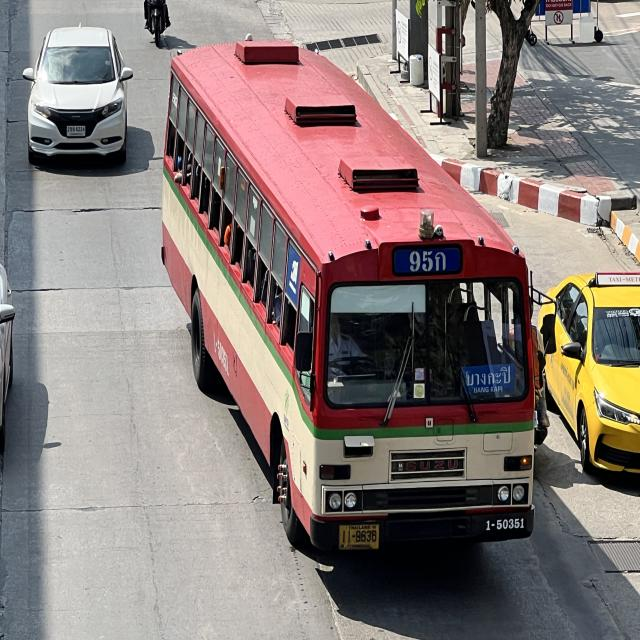BMTA-bus: (160, 39, 542, 558)
Bus-Line-Number: (392, 240, 466, 281)
Destination-Sign-Normal: (459, 366, 514, 394)
